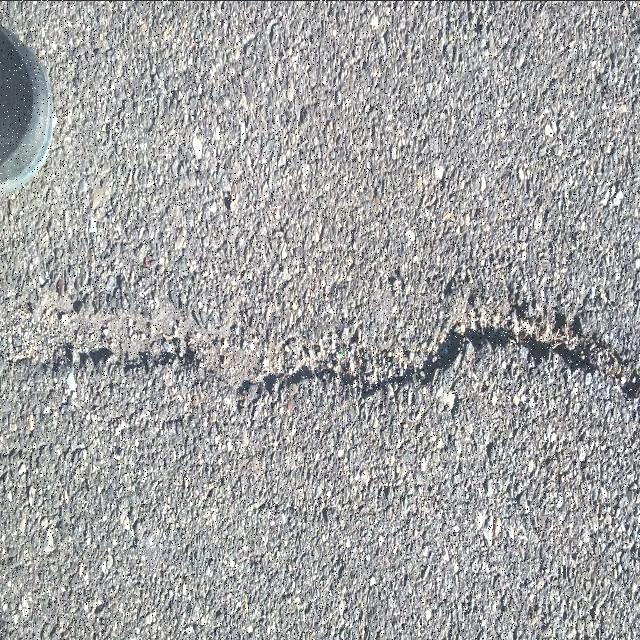Crack: (0, 291, 640, 409)
